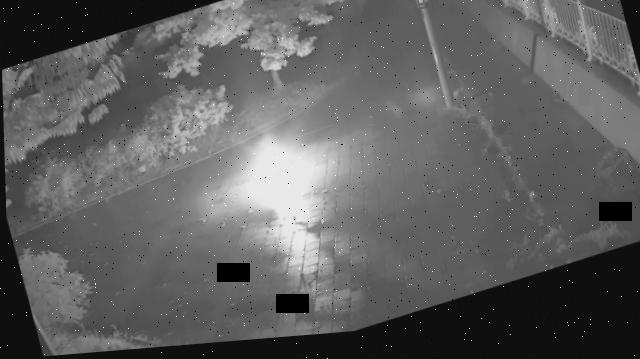fire: (220, 128, 326, 245)
